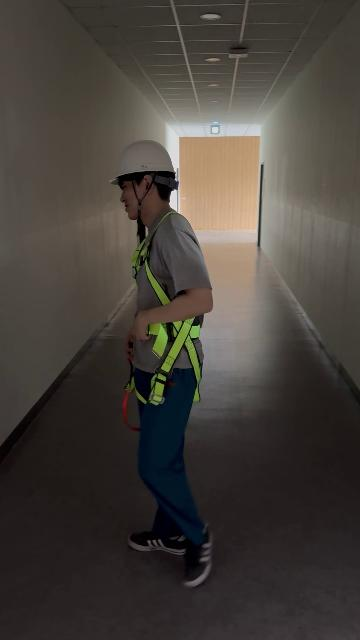helmet_worn: (109, 139, 177, 182)
shoe_not_worn: (182, 522, 213, 587), (128, 529, 190, 554)
vest_worn: (128, 217, 204, 400)
